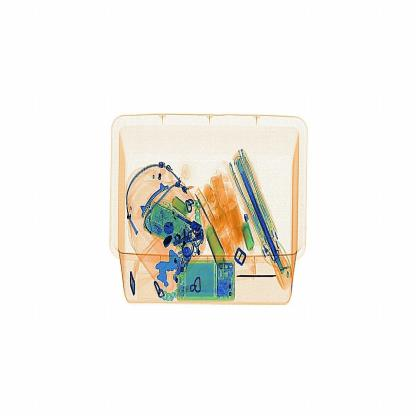wrench: (230, 270, 292, 289)
